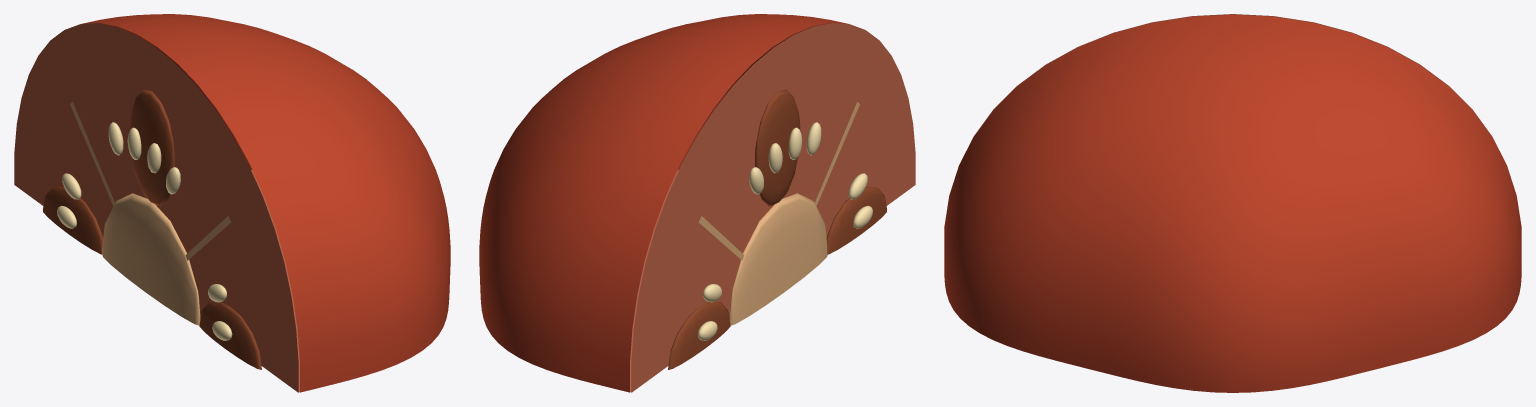
File: campari_wedge.glb
3 renders of one model, left to right at view 1: azimuth 30°, elevation 25°; view 2: azimuth 150°, elevation 25°; view 3: azimuth 270°, elevation 25°, orthographic.
Visible parts, largest first — view 1: Campari Campari vermilion satin skin / Campari dense coral f, Campari Campari dense coral flesh, Campari Campari pale radial pith / Campari dense coral flesh, Campari Four Campari amber gel locules / Campari dense coral, Campari Four Campari amber gel locules, Campari Campari small cream seeds, Campari Campari pale radial pith; view 2: Campari Campari vermilion satin skin / Campari dense coral f, Campari Campari dense coral flesh, Campari Campari pale radial pith / Campari dense coral flesh, Campari Four Campari amber gel locules / Campari dense coral, Campari Four Campari amber gel locules, Campari Campari small cream seeds, Campari Campari pale radial pith; view 3: Campari Campari vermilion satin skin / Campari dense coral f, Campari Campari dense coral flesh.
Part boxes in pixels (box(x1,y1,x2,y2)): Campari Campari vermilion satin skin / Campari dense coral f: box(82, 14, 450, 392); Campari Campari dense coral flesh: box(14, 23, 298, 392); Campari Campari pale radial pith / Campari dense coral flesh: box(102, 193, 200, 325); Campari Four Campari amber gel locules / Campari dense coral: box(43, 186, 261, 369); Campari Four Campari amber gel locules: box(129, 89, 174, 206); Campari Campari small cream seeds: box(57, 122, 232, 340); Campari Campari pale radial pith: box(70, 102, 231, 260); Campari Campari vermilion satin skin / Campari dense coral f: box(479, 14, 847, 392); Campari Campari dense coral flesh: box(631, 23, 915, 392); Campari Campari pale radial pith / Campari dense coral flesh: box(729, 193, 827, 325); Campari Four Campari amber gel locules / Campari dense coral: box(668, 186, 886, 369); Campari Four Campari amber gel locules: box(755, 89, 800, 206); Campari Campari small cream seeds: box(697, 122, 872, 340); Campari Campari pale radial pith: box(698, 102, 859, 260); Campari Campari vermilion satin skin / Campari dense coral f: box(944, 14, 1521, 392); Campari Campari dense coral flesh: box(944, 14, 1521, 226).
Bounding box in the file's own units: 0.6377 × 0.51 × 1.09.
